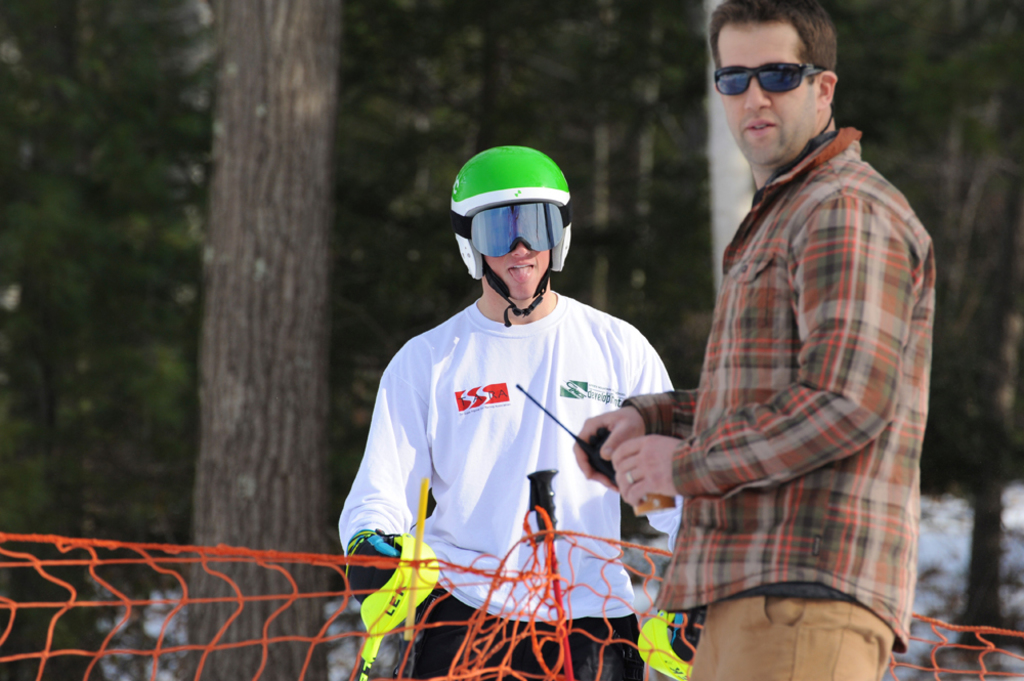Human_hand: (573, 405, 648, 490)
